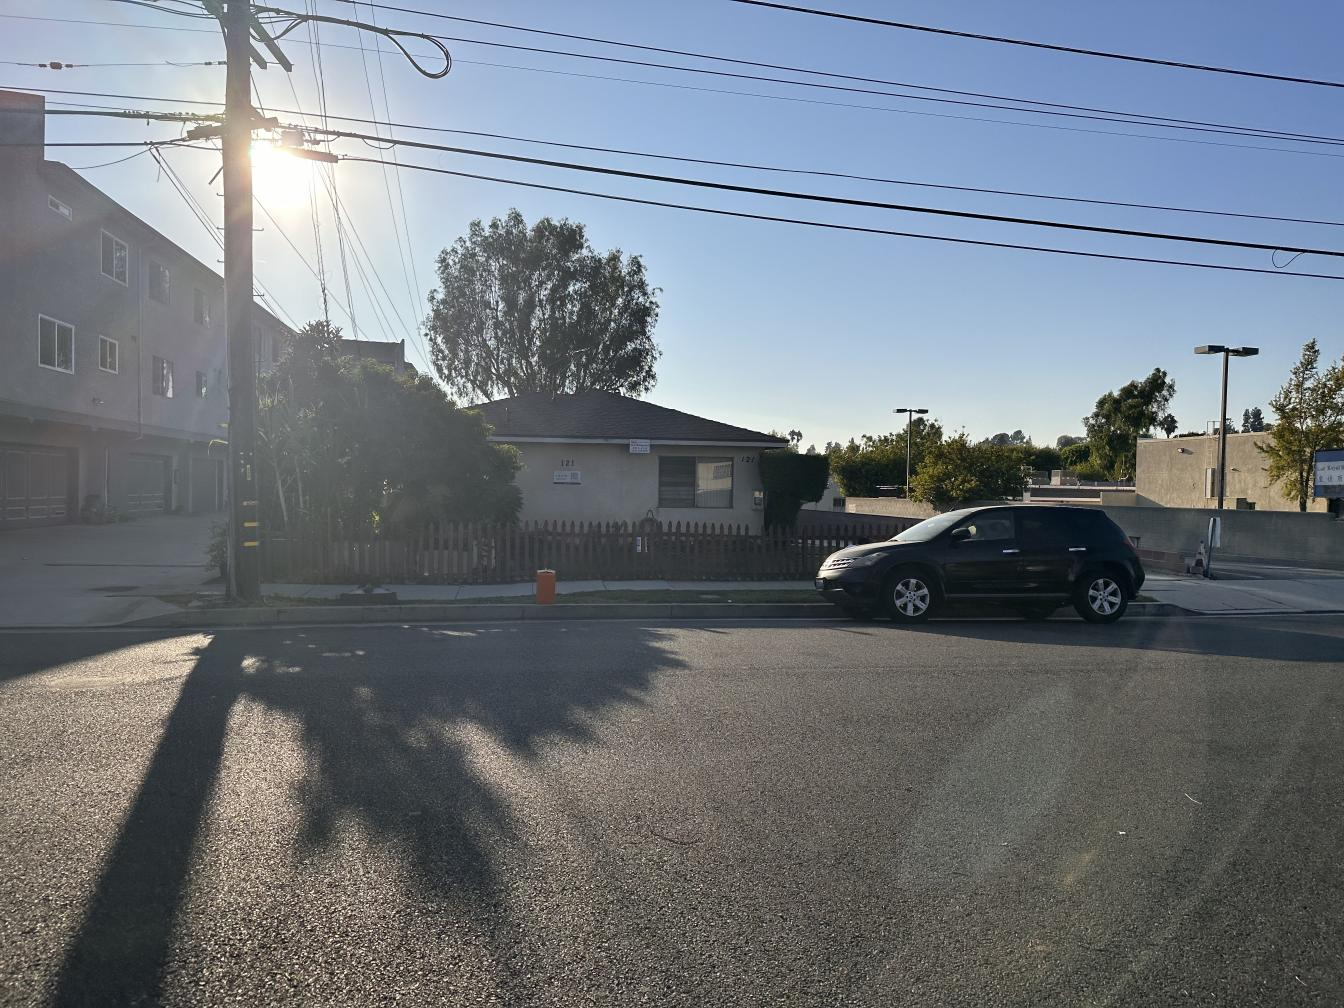curbs-laRr: (182, 604, 540, 626), (542, 600, 834, 623)
orange box: (539, 571, 558, 605)
